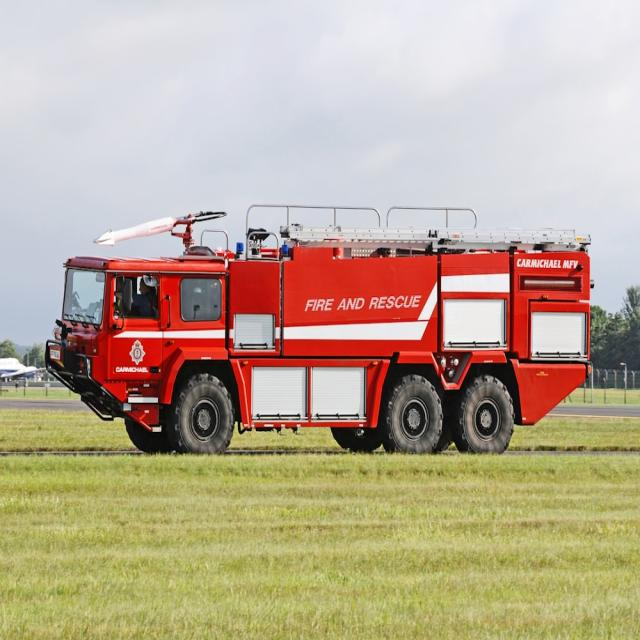emergency: (45, 203, 591, 453)
